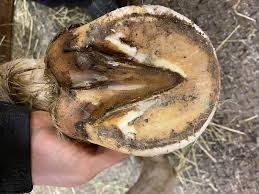horsesole: (63, 4, 220, 156)
